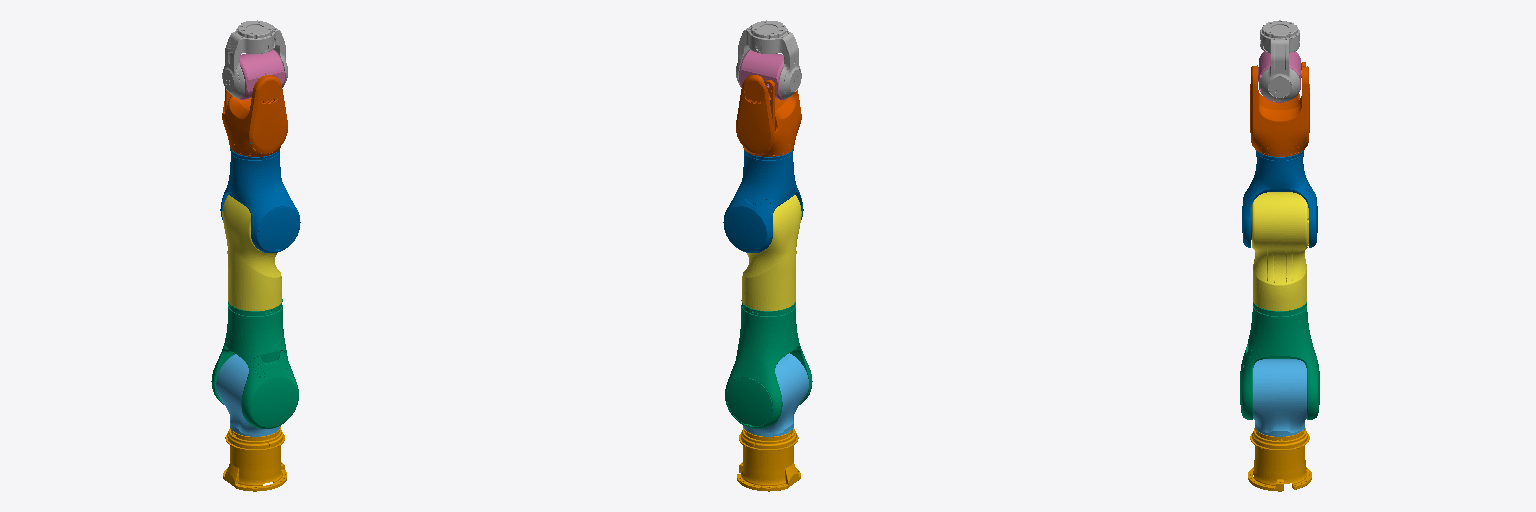
URDF robot description (ar5_08_left):
<?xml version="1.0"?>
<!-- Written by tools/assemble.py from ar5_08_left.xml: the same robot. Edit the MJCF, not this file. -->
<robot name="ar5_08_left">
  <link name="AR5_5_08L_W4C4A6_base">
    <inertial><origin xyz="-3.32756117e-05 -5.336332348e-05 0.05327725576" rpy="-0.005736384127 0.006757944656 0.2720821904"/><mass value="1.985108467"/><inertia ixx="0.002841170574" ixy="0" ixz="0" iyy="0.002806933388" iyz="0" izz="0.00230931321"/></inertial>
    <visual><origin xyz="0 0 0" rpy="0 0 0"/><geometry><mesh filename="meshes/visual/AR5_5_08L_W4C4A6_base_vis.obj"/></geometry></visual>
    <collision><origin xyz="0 0 0" rpy="0 0 0"/><geometry><mesh filename="meshes/collision/AR5_5_08L_W4C4A6_base_col.obj"/></geometry></collision>
  </link>
  <link name="AR5_5_08L_W4C4A6_link1">
    <inertial><origin xyz="-0.000184 0.001568 0.172804" rpy="1.59694021 0.003350007487 0.000518298902"/><mass value="2.166"/><inertia ixx="0.003322491774" ixy="0" ixz="0" iyy="0.003177296948" iyz="0" izz="0.002608651278"/></inertial>
    <visual><origin xyz="0 0 0" rpy="0 0 0"/><geometry><mesh filename="meshes/visual/AR5_5_08L_W4C4A6_link1_vis.obj"/></geometry></visual>
    <collision><origin xyz="0 0 0" rpy="0 0 0"/><geometry><mesh filename="meshes/collision/AR5_5_08L_W4C4A6_link1_col.obj"/></geometry></collision>
  </link>
  <joint name="AR5_5_08L_W4C4A6_joint_1" type="revolute"><parent link="AR5_5_08L_W4C4A6_base"/><child link="AR5_5_08L_W4C4A6_link1"/><origin xyz="0 0 0" rpy="0 0 0"/><axis xyz="0 0 1"/><limit lower="-3.1067" upper="3.1067" effort="120" velocity="0.39"/><dynamics damping="0" friction="0"/></joint>
  <link name="AR5_5_08L_W4C4A6_link2">
    <inertial><origin xyz="-1.7e-05 0.001795 0.106689" rpy="-0.1304039716 0.0007589674355 0.002718522206"/><mass value="1.903"/><inertia ixx="0.007798038457" ixy="0" ixz="0" iyy="0.006812817024" iyz="0" izz="0.002990434519"/></inertial>
    <visual><origin xyz="0 0 0" rpy="0 0 0"/><geometry><mesh filename="meshes/visual/AR5_5_08L_W4C4A6_link2_vis.obj"/></geometry></visual>
    <collision><origin xyz="0 0 0" rpy="0 0 0"/><geometry><mesh filename="meshes/collision/AR5_5_08L_W4C4A6_link2_col.obj"/></geometry></collision>
  </link>
  <joint name="AR5_5_08L_W4C4A6_joint_2" type="revolute"><parent link="AR5_5_08L_W4C4A6_link1"/><child link="AR5_5_08L_W4C4A6_link2"/><origin xyz="0 0 0.1745" rpy="0 0 0"/><axis xyz="0 1 0"/><limit lower="-2.0944" upper="2.0944" effort="120" velocity="0.32"/><dynamics damping="0" friction="0"/></joint>
  <link name="AR5_5_08L_W4C4A6_link3">
    <inertial><origin xyz="0.008227 -0.001273 -0.020611" rpy="-0.008731149823 -0.09410258475 0.01303323884"/><mass value="1.845"/><inertia ixx="0.006445782939" ixy="0" ixz="0" iyy="0.005916040145" iyz="0" izz="0.002732806916"/></inertial>
    <visual><origin xyz="0 0 0" rpy="0 0 0"/><geometry><mesh filename="meshes/visual/AR5_5_08L_W4C4A6_link3_vis.obj"/></geometry></visual>
    <collision><origin xyz="0 0 0" rpy="0 0 0"/><geometry><mesh filename="meshes/collision/AR5_5_08L_W4C4A6_link3_col.obj"/></geometry></collision>
  </link>
  <joint name="AR5_5_08L_W4C4A6_joint_3" type="revolute"><parent link="AR5_5_08L_W4C4A6_link2"/><child link="AR5_5_08L_W4C4A6_link3"/><origin xyz="0 0 0.332" rpy="0 0 0"/><axis xyz="0 0 1"/><limit lower="-3.1067" upper="3.1067" effort="120" velocity="0.39"/><dynamics damping="0" friction="0"/></joint>
  <link name="AR5_5_08L_W4C4A6_link4">
    <inertial><origin xyz="-0.009242 -0.002172 0.084042" rpy="0.1906458757 0.09035069607 -0.08562161677"/><mass value="1.037"/><inertia ixx="0.002959561649" ixy="0" ixz="0" iyy="0.002484529386" iyz="0" izz="0.001356378965"/></inertial>
    <visual><origin xyz="0 0 0" rpy="0 0 0"/><geometry><mesh filename="meshes/visual/AR5_5_08L_W4C4A6_link4_vis.obj"/></geometry></visual>
    <collision><origin xyz="0 0 0" rpy="0 0 0"/><geometry><mesh filename="meshes/collision/AR5_5_08L_W4C4A6_link4_col.obj"/></geometry></collision>
  </link>
  <joint name="AR5_5_08L_W4C4A6_joint_4" type="revolute"><parent link="AR5_5_08L_W4C4A6_link3"/><child link="AR5_5_08L_W4C4A6_link4"/><origin xyz="0.0105 0 0" rpy="0 0 0"/><axis xyz="0 1 0"/><limit lower="-1.0472" upper="2.5307" effort="120" velocity="0.39"/><dynamics damping="0" friction="0"/></joint>
  <link name="AR5_5_08L_W4C4A6_link5">
    <inertial><origin xyz="-0.000756 0.000723 -0.086764" rpy="0.1438696993 0.06207325125 -0.1007027591"/><mass value="1.279"/><inertia ixx="0.002420170387" ixy="0" ixz="0" iyy="0.002007901111" iyz="0" izz="0.001574808502"/></inertial>
    <visual><origin xyz="0 0 0" rpy="0 0 0"/><geometry><mesh filename="meshes/visual/AR5_5_08L_W4C4A6_link5_vis.obj"/></geometry></visual>
    <collision><origin xyz="0 0 0" rpy="0 0 0"/><geometry><mesh filename="meshes/collision/AR5_5_08L_W4C4A6_link5_col.obj"/></geometry></collision>
  </link>
  <joint name="AR5_5_08L_W4C4A6_joint_5" type="revolute"><parent link="AR5_5_08L_W4C4A6_link4"/><child link="AR5_5_08L_W4C4A6_link5"/><origin xyz="-0.0105 0 0.278" rpy="0 0 0"/><axis xyz="0 0 1"/><limit lower="-3.1067" upper="3.1067" effort="100" velocity="0.49"/><dynamics damping="0" friction="0"/></joint>
  <link name="AR5_5_08L_W4C4A6_link6">
    <inertial><origin xyz="-0.005104 0.000251 5.6e-05" rpy="-1.737439879 -1.527581495 -1.397740692"/><mass value="0.906"/><inertia ixx="0.0007589977638" ixy="0" ixz="0" iyy="0.0007477954662" iyz="0" izz="0.0006142767699"/></inertial>
    <visual><origin xyz="0 0 0" rpy="0 0 0"/><geometry><mesh filename="meshes/visual/AR5_5_08L_W4C4A6_link6_vis.obj"/></geometry></visual>
    <collision><origin xyz="0 0 0" rpy="0 0 0"/><geometry><mesh filename="meshes/collision/AR5_5_08L_W4C4A6_link6_col.obj"/></geometry></collision>
  </link>
  <joint name="AR5_5_08L_W4C4A6_joint_6" type="revolute"><parent link="AR5_5_08L_W4C4A6_link5"/><child link="AR5_5_08L_W4C4A6_link6"/><origin xyz="0 0 0" rpy="0 0 0"/><axis xyz="0 1 0"/><limit lower="-1.047197551" upper="1.047197551" effort="100" velocity="0.49"/><dynamics damping="0" friction="0"/></joint>
  <link name="AR5_5_08L_W4C4A6_link7">
    <inertial><origin xyz="-0.001562 -0.000366 0.05392" rpy="-0.6516374954 0.002039260762 1.559238994"/><mass value="0.33"/><inertia ixx="0.000686553028" ixy="0" ixz="0" iyy="0.0004900305916" iyz="0" izz="0.0004099863803"/></inertial>
    <visual><origin xyz="0 0 0" rpy="0 0 0"/><geometry><mesh filename="meshes/visual/AR5_5_08L_W4C4A6_link7_vis.obj"/></geometry></visual>
    <collision><origin xyz="0 0 0" rpy="0 0 0"/><geometry><mesh filename="meshes/collision/AR5_5_08L_W4C4A6_link7_col.obj"/></geometry></collision>
  </link>
  <joint name="AR5_5_08L_W4C4A6_joint_7" type="revolute"><parent link="AR5_5_08L_W4C4A6_link6"/><child link="AR5_5_08L_W4C4A6_link7"/><origin xyz="0 0 0" rpy="0 0 0"/><axis xyz="1 0 0"/><limit lower="-1.570796327" upper="1.570796327" effort="100" velocity="0.49"/><dynamics damping="0" friction="0"/></joint>
  <link name="AR5_5_08L_W4C4A6_tcp">
    <inertial><origin xyz="0 0 0" rpy="0 0 0"/><mass value="1e-06"/><inertia ixx="1e-09" ixy="0" ixz="0" iyy="1e-09" iyz="0" izz="1e-09"/></inertial>
  </link>
  <joint name="AR5_5_08L_W4C4A6_tcp_fixed" type="fixed"><parent link="AR5_5_08L_W4C4A6_link7"/><child link="AR5_5_08L_W4C4A6_tcp"/><origin xyz="0 0 0.09" rpy="0 0 0"/></joint>
</robot>

--- Facts derived from the render (not from the file) ---
Views: 3 orthographic renders of the robot side by side, from view 1: azimuth 30°, elevation 25°; view 2: azimuth 150°, elevation 25°; view 3: azimuth 270°, elevation 25°.
Robot: ar5_08_left — 9 links, 8 joints (7 revolute, 1 fixed); root link AR5_5_08L_W4C4A6_base; default pose: all joints at 0.
Visible links, largest first — view 1: AR5_5_08L_W4C4A6_link2, AR5_5_08L_W4C4A6_link4, AR5_5_08L_W4C4A6_link3, AR5_5_08L_W4C4A6_link5, AR5_5_08L_W4C4A6_base, AR5_5_08L_W4C4A6_link7, AR5_5_08L_W4C4A6_link1, AR5_5_08L_W4C4A6_link6; view 2: AR5_5_08L_W4C4A6_link2, AR5_5_08L_W4C4A6_link4, AR5_5_08L_W4C4A6_link3, AR5_5_08L_W4C4A6_link5, AR5_5_08L_W4C4A6_base, AR5_5_08L_W4C4A6_link7, AR5_5_08L_W4C4A6_link1, AR5_5_08L_W4C4A6_link6; view 3: AR5_5_08L_W4C4A6_link3, AR5_5_08L_W4C4A6_link2, AR5_5_08L_W4C4A6_link1, AR5_5_08L_W4C4A6_link5, AR5_5_08L_W4C4A6_link4, AR5_5_08L_W4C4A6_base, AR5_5_08L_W4C4A6_link7, AR5_5_08L_W4C4A6_link6.
Link boxes in pixels (box(x1,y1,x2,y2)): AR5_5_08L_W4C4A6_link2: box(211, 299, 298, 428); AR5_5_08L_W4C4A6_link4: box(220, 143, 300, 252); AR5_5_08L_W4C4A6_link3: box(222, 195, 281, 310); AR5_5_08L_W4C4A6_link5: box(222, 75, 287, 156); AR5_5_08L_W4C4A6_base: box(223, 427, 286, 491); AR5_5_08L_W4C4A6_link7: box(222, 20, 287, 98); AR5_5_08L_W4C4A6_link1: box(216, 354, 280, 436); AR5_5_08L_W4C4A6_link6: box(239, 50, 284, 99); AR5_5_08L_W4C4A6_link2: box(725, 300, 812, 428); AR5_5_08L_W4C4A6_link4: box(723, 148, 803, 252); AR5_5_08L_W4C4A6_link3: box(742, 195, 801, 310); AR5_5_08L_W4C4A6_link5: box(736, 75, 801, 156); AR5_5_08L_W4C4A6_base: box(737, 427, 800, 491); AR5_5_08L_W4C4A6_link7: box(736, 20, 801, 98); AR5_5_08L_W4C4A6_link1: box(743, 353, 808, 436); AR5_5_08L_W4C4A6_link6: box(739, 50, 784, 99); AR5_5_08L_W4C4A6_link3: box(1252, 192, 1308, 310); AR5_5_08L_W4C4A6_link2: box(1240, 302, 1319, 419); AR5_5_08L_W4C4A6_link1: box(1253, 359, 1306, 436); AR5_5_08L_W4C4A6_link5: box(1250, 62, 1309, 156); AR5_5_08L_W4C4A6_link4: box(1242, 151, 1317, 247); AR5_5_08L_W4C4A6_base: box(1248, 428, 1311, 491); AR5_5_08L_W4C4A6_link7: box(1260, 20, 1299, 101); AR5_5_08L_W4C4A6_link6: box(1258, 51, 1301, 102).
Size in the robot's own frame: 0.1184 by 0.1417 by 0.8745 metres.
Meshes: 8 distinct files referenced, 8 mesh visuals loaded (8 OBJ).
